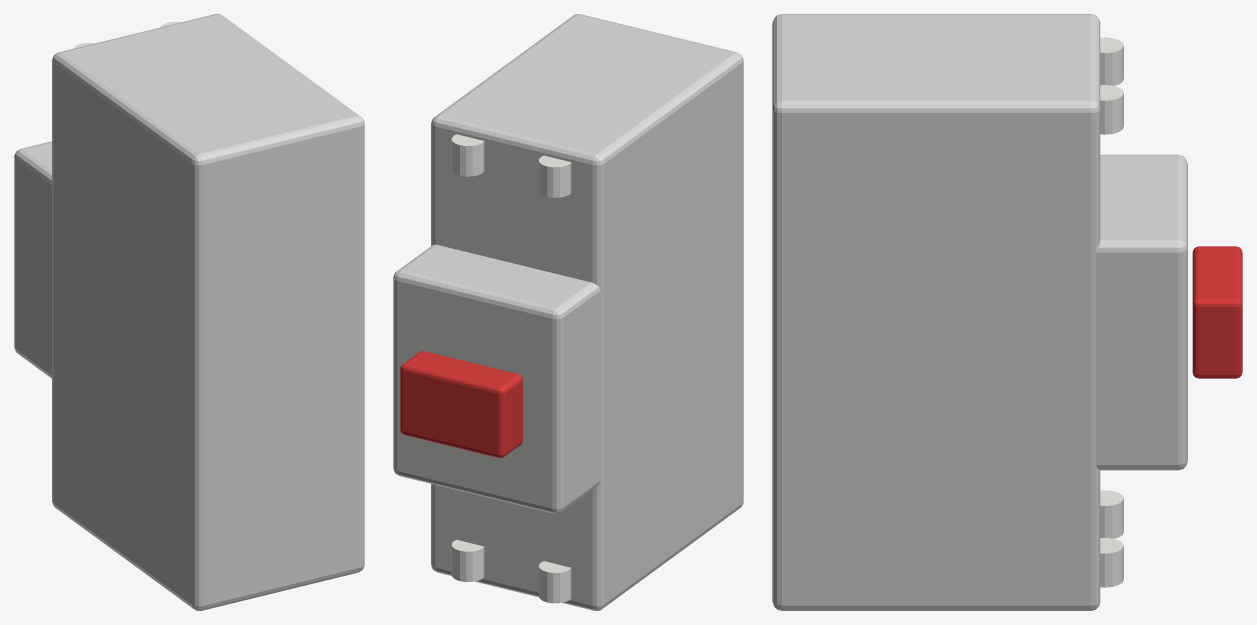
Rendered from generic-mcb-dc-2p-63a-1000v.glb.
The picture shows the model from 3 angles, left to right: view 1: azimuth 30°, elevation 25°; view 2: azimuth 150°, elevation 25°; view 3: azimuth 270°, elevation 25°; orthographic projection. The views are drawn at different scales.
Parts seen in each view (by area): view 1: body, front; view 2: body, front, toggle, term-l2, term-t2, term-t1, term-l1; view 3: body, front, toggle, term-l2, term-t2, term-l1, term-t1.
Boxes of the visible parts, x1,y1,x2,y2 form: body: (52, 14, 364, 610); front: (14, 141, 51, 378); body: (431, 14, 743, 610); front: (393, 244, 600, 513); toggle: (400, 351, 522, 457); term-l2: (451, 134, 484, 176); term-t2: (451, 540, 484, 581); term-t1: (539, 561, 571, 603); term-l1: (539, 155, 571, 197); body: (772, 14, 1100, 610); front: (1096, 154, 1187, 470); toggle: (1192, 246, 1242, 378); term-l2: (1100, 85, 1123, 134); term-t2: (1100, 538, 1123, 587); term-l1: (1100, 37, 1123, 85); term-t1: (1100, 490, 1123, 538).
Size of the model in its own units: 0.0355 by 0.09 by 0.0752.
